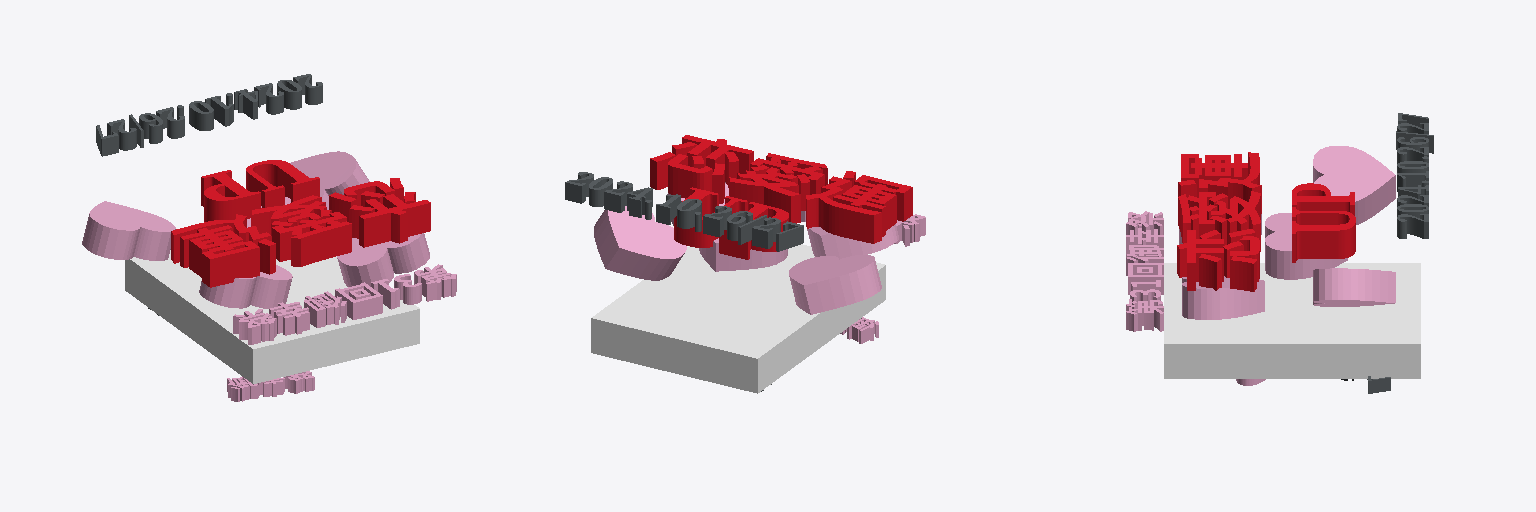
File: tinker.obj
3 views of the same model, side by side, from view 1: azimuth 30°, elevation 25°; view 2: azimuth 150°, elevation 25°; view 3: azimuth 270°, elevation 25° (orthographic).
Parts seen in each view (by area): view 1: obj_0; view 2: obj_0; view 3: obj_0.
Part boxes in pixels (left/top/right/bottom): obj_0: left=82, top=74, right=456, bottom=401; obj_0: left=565, top=135, right=925, bottom=393; obj_0: left=1126, top=113, right=1433, bottom=393.
Size of the model in its own units: 18.75 by 12.47 by 18.